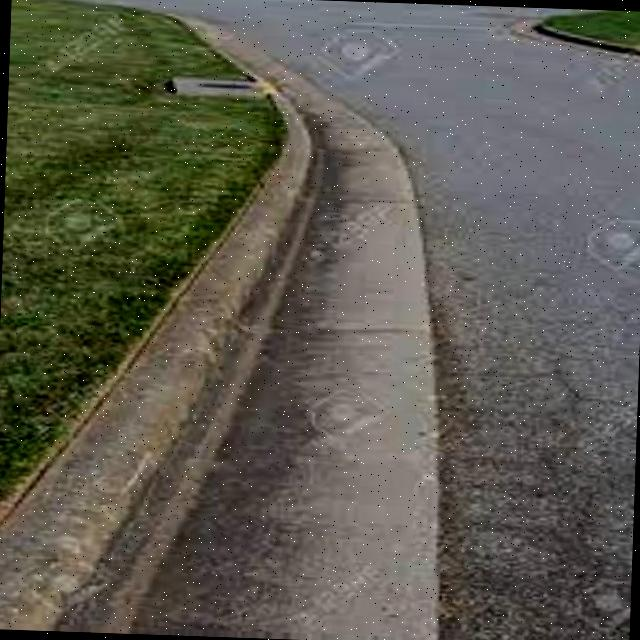curb: (1, 460, 153, 635), (74, 333, 211, 518), (171, 195, 264, 355), (247, 83, 332, 248)
